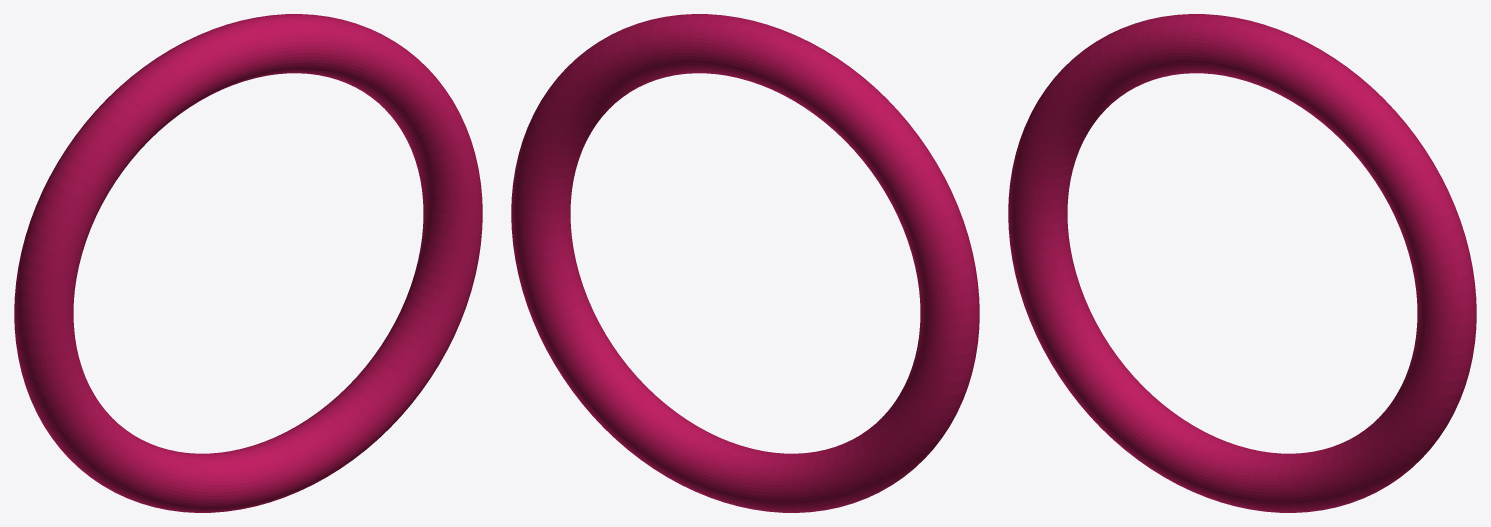
3 renders of one model, left to right at view 1: azimuth 30°, elevation 25°; view 2: azimuth 150°, elevation 25°; view 3: azimuth 330°, elevation 25°, orthographic.
Parts seen in each view (by area): view 1: world; view 2: world; view 3: world.
Part boxes in pixels (left/top/right/bottom): world: left=14, top=14, right=482, bottom=512; world: left=511, top=14, right=979, bottom=512; world: left=1008, top=14, right=1476, bottom=512.
Size of the model in its own units: 32.27 by 32.27 by 3.59.
